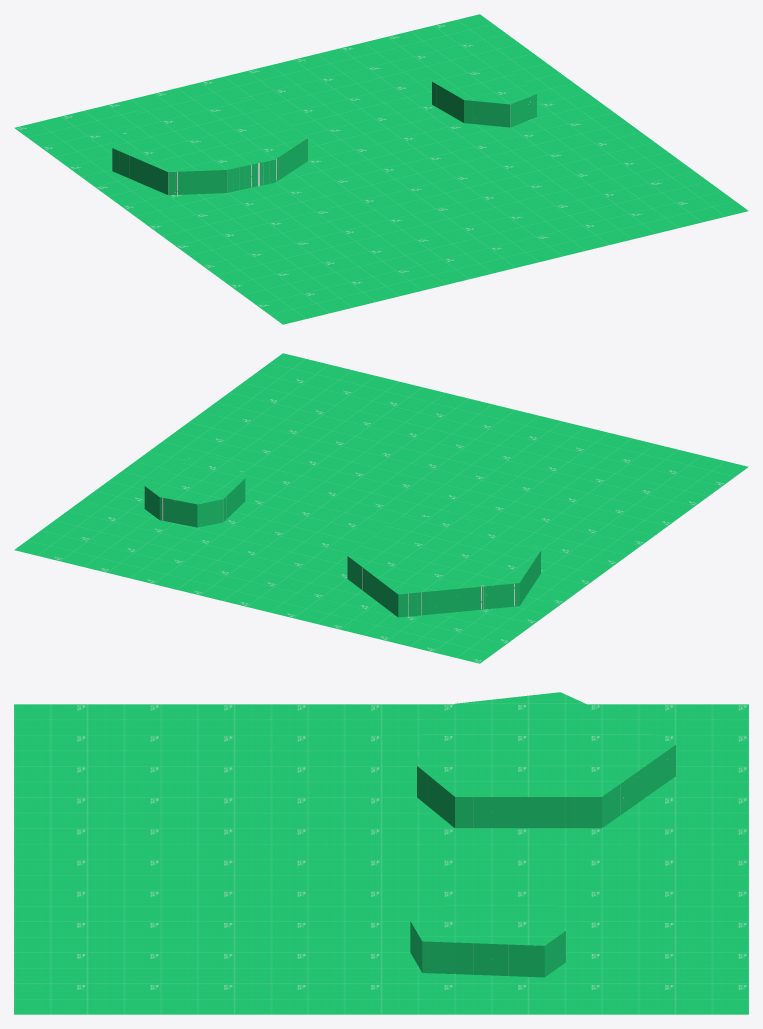
3 renders of one model, top to bottom at view 1: azimuth 30°, elevation 25°; view 2: azimuth 150°, elevation 25°; view 3: azimuth 270°, elevation 25°, orthographic. The views are drawn at different scales.
Visible parts, largest first — view 1: plane-col; view 2: plane-col; view 3: plane-col.
Part boxes in pixels (x1,y1,x2,y2): plane-col: (14,14,748,324); plane-col: (14,353,748,663); plane-col: (14,692,748,1014).
Size of the model in its own units: 63.31 by 3 by 63.31.
1 material, 1 textured.
